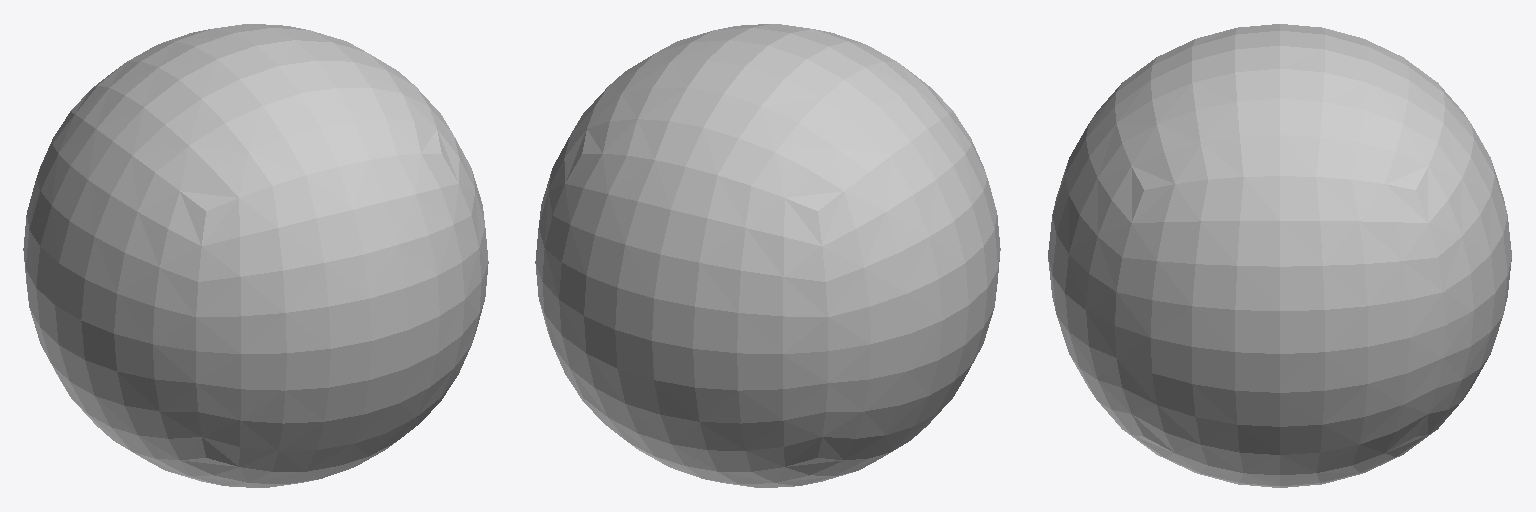
File: BOS.obj
The picture shows the model from 3 angles: view 1: azimuth 30°, elevation 25°; view 2: azimuth 150°, elevation 25°; view 3: azimuth 270°, elevation 25°; orthographic projection.
Parts seen in each view (by area): view 1: TMD object #3, VRAM page #8, TMD object #3, VRAM page #7; view 2: TMD object #3, VRAM page #8, TMD object #3, VRAM page #5, TMD object #3, VRAM page #7; view 3: TMD object #3, VRAM page #7, TMD object #3, VRAM page #8, TMD object #3, VRAM page #5.
Part boxes in pixels (x1,y1,x2,y2): TMD object #3, VRAM page #8: (23, 24, 441, 459); TMD object #3, VRAM page #7: (126, 87, 488, 487); TMD object #3, VRAM page #8: (582, 24, 1000, 459); TMD object #3, VRAM page #5: (542, 154, 827, 471); TMD object #3, VRAM page #7: (535, 87, 897, 487); TMD object #3, VRAM page #7: (1048, 83, 1444, 487); TMD object #3, VRAM page #8: (1115, 24, 1444, 189); TMD object #3, VRAM page #5: (1416, 83, 1511, 436).
Bounding box in the file's own units: 145 × 145 × 145.